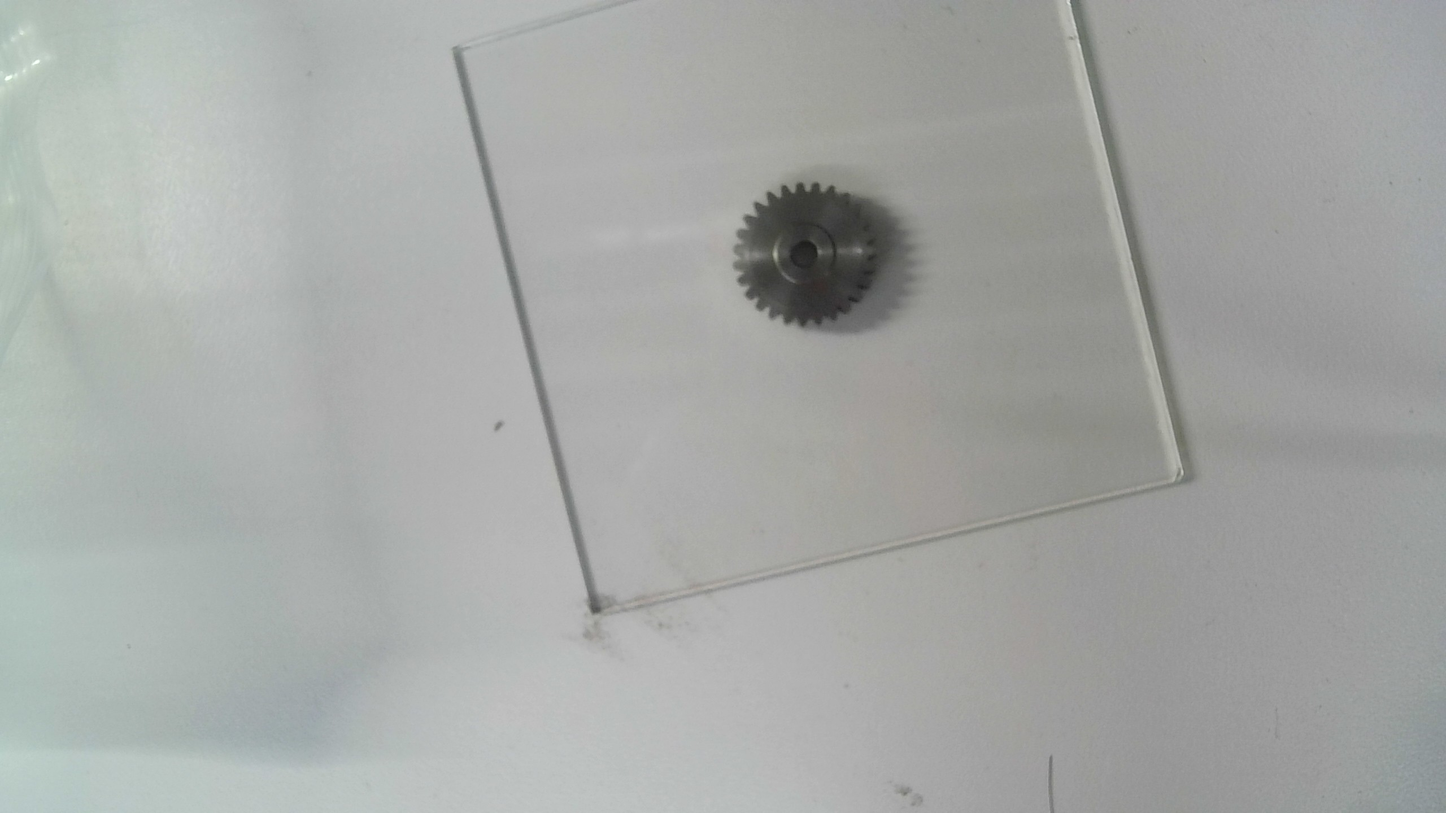gear: (729, 181, 881, 333)
